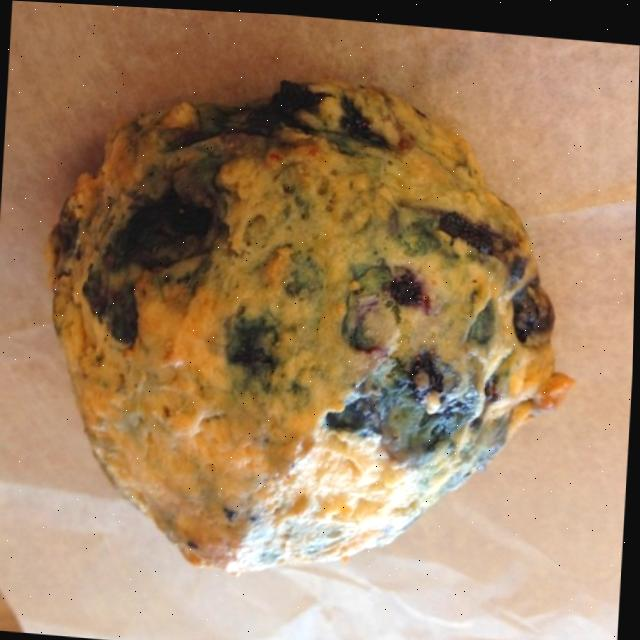面包点心: (19, 7, 620, 640)
